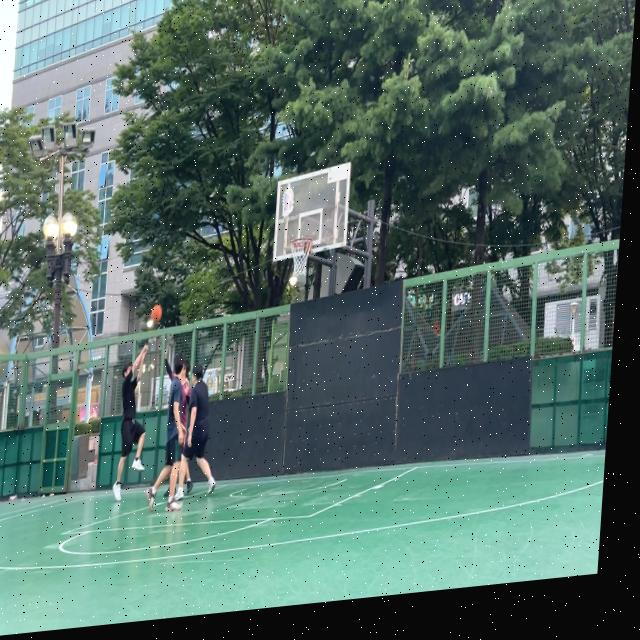basketball: (150, 303, 162, 323)
hoop: (288, 236, 312, 278)
